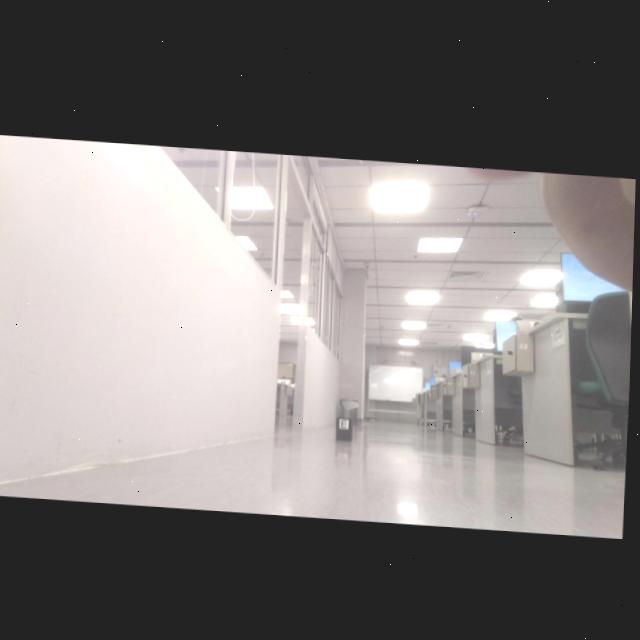E: (343, 416, 348, 424)
